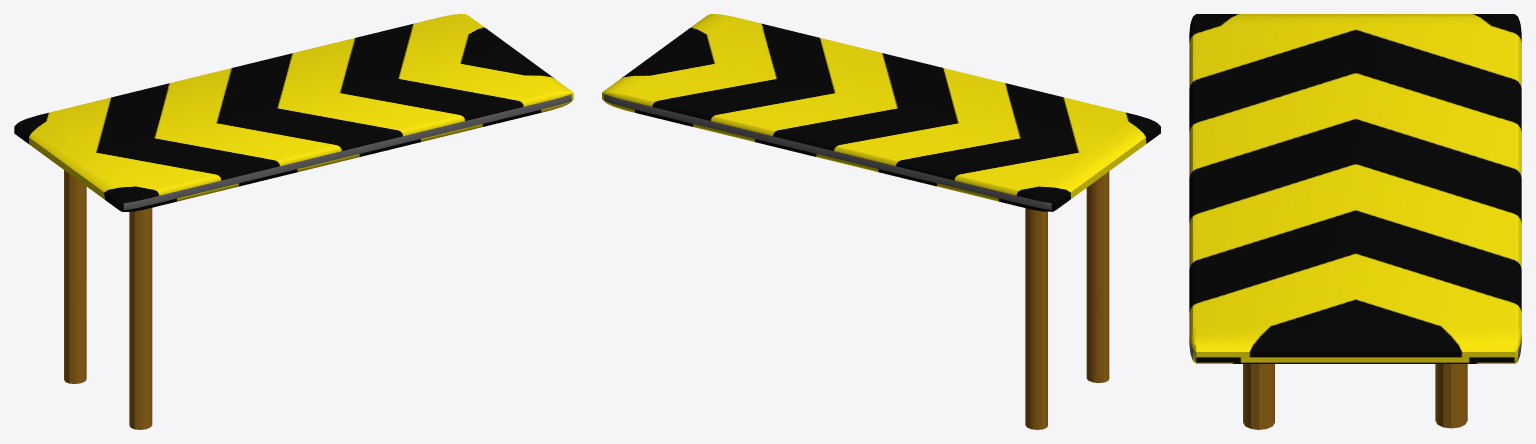
The model's file is raylksamasa2.fbx.
3 views of the same model, side by side, from view 1: azimuth 30°, elevation 25°; view 2: azimuth 150°, elevation 25°; view 3: azimuth 270°, elevation 25° (orthographic). The views are drawn at different scales.
Visible parts, largest first — view 1: Cylinder.039; view 2: Cylinder.039; view 3: Cylinder.039.
Part boxes in pixels (left/top/right/bottom): Cylinder.039: left=14, top=14, right=573, bottom=429; Cylinder.039: left=602, top=14, right=1160, bottom=429; Cylinder.039: left=1189, top=14, right=1521, bottom=429.
Size of the model in its own units: 67.03 by 35.6 by 27.95.
